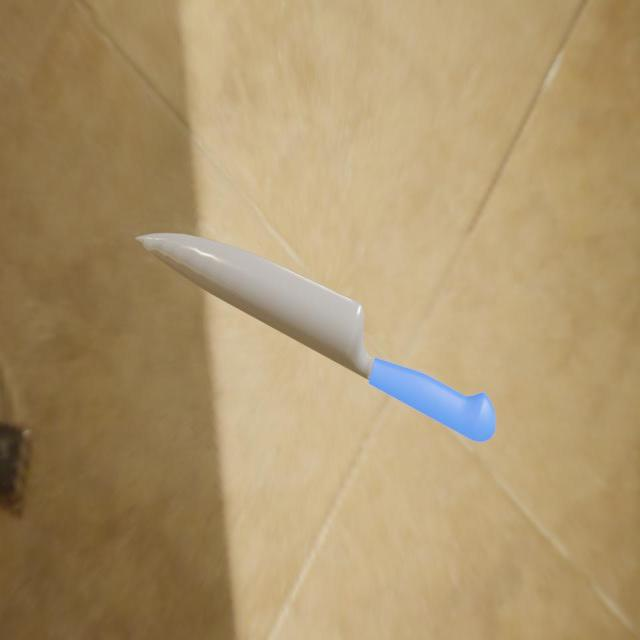knife: (369, 357, 497, 443)
